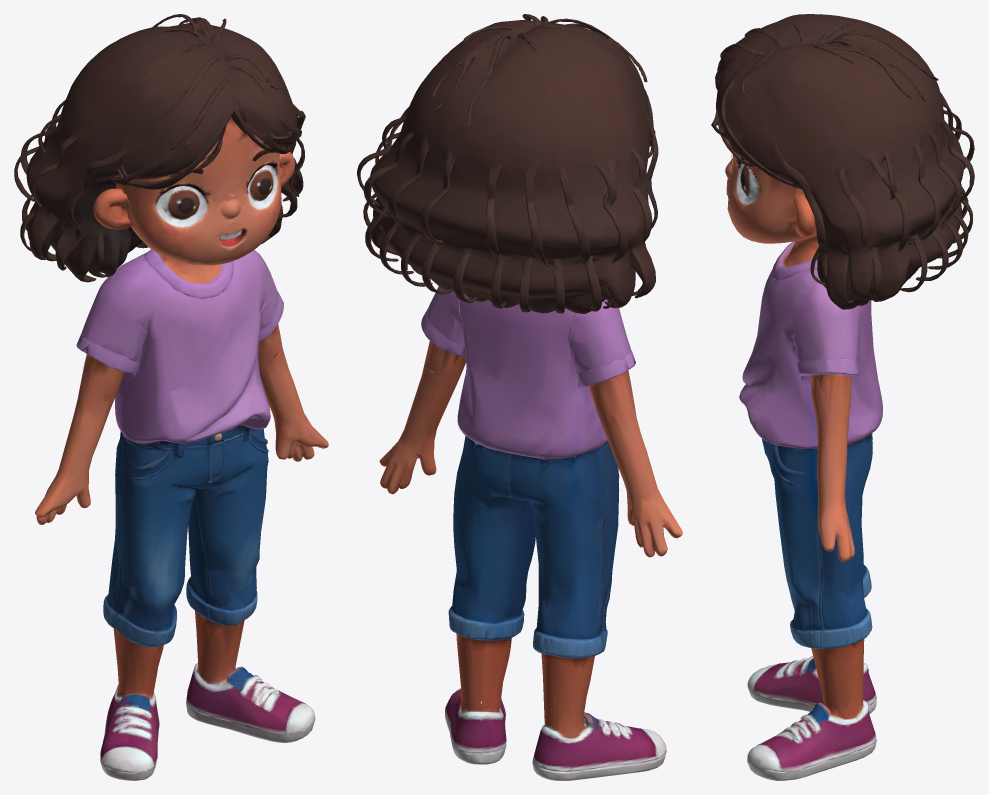
Rendered from menina-30k.glb.
3 views of the same model, side by side, from view 1: azimuth 30°, elevation 25°; view 2: azimuth 150°, elevation 25°; view 3: azimuth 270°, elevation 25° (orthographic). The views are drawn at different scales.
Visible parts, largest first — view 1: corpo; view 2: corpo; view 3: corpo.
Boxes of the visible parts, x1,y1,x2,y2 form: corpo: (14,14,328,780); corpo: (357,14,682,780); corpo: (711,14,974,780).
Size of the model in its own units: 0.4234 by 0.9783 by 0.328.
Materials: 1 (1 with a texture image).
